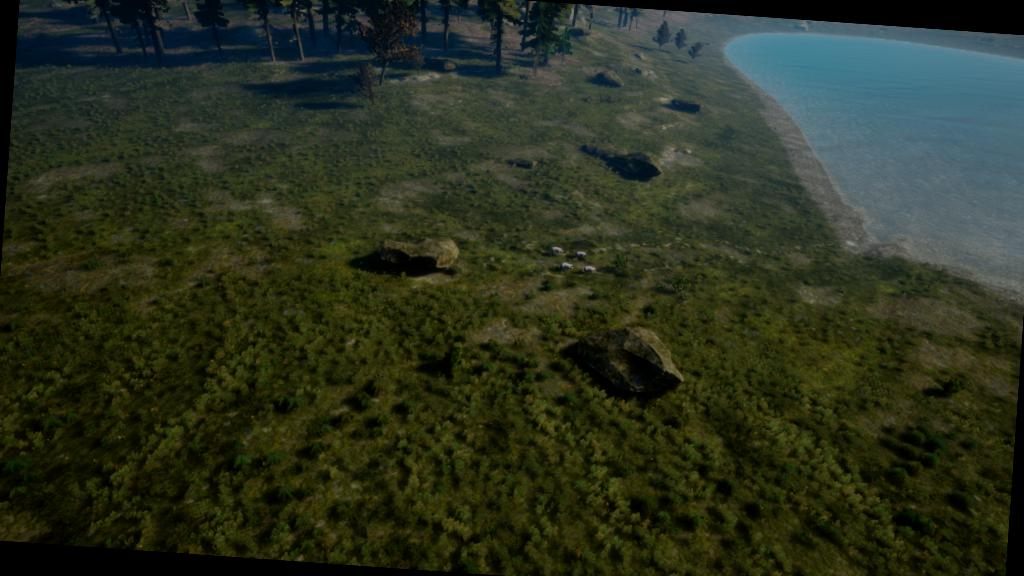pig: (549, 258, 578, 276), (542, 239, 570, 257), (570, 244, 593, 264), (581, 262, 605, 280)
